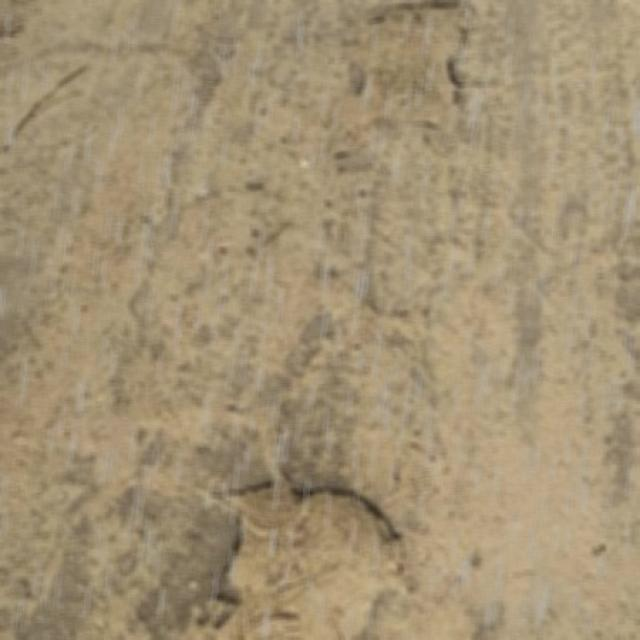road-pothole: (191, 467, 430, 639)
